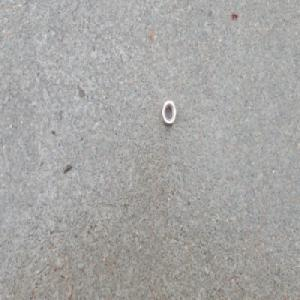Nut: (161, 98, 177, 125)
